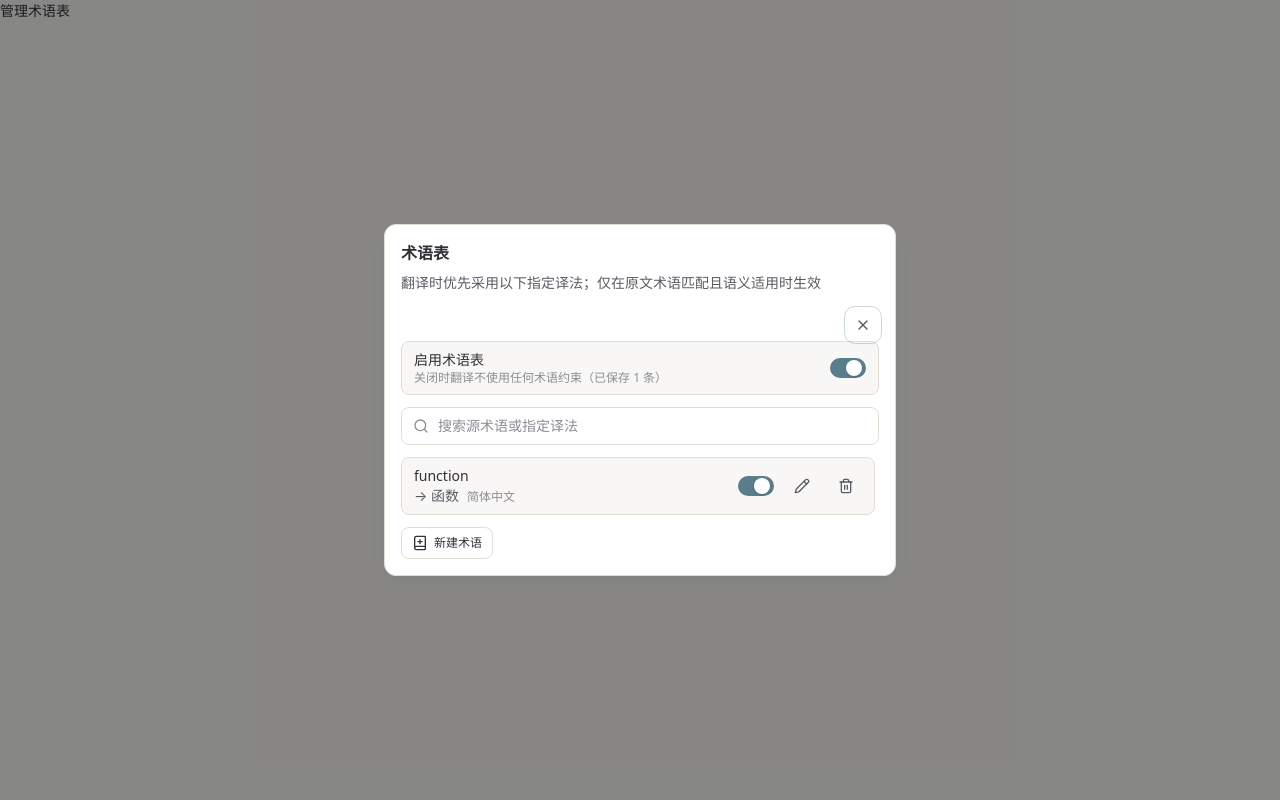
Scenario: TermbaseDialog › prefills the editor and updates an existing entry
Click the button named "编辑术语 function": (802, 486) [786,470,818,502]
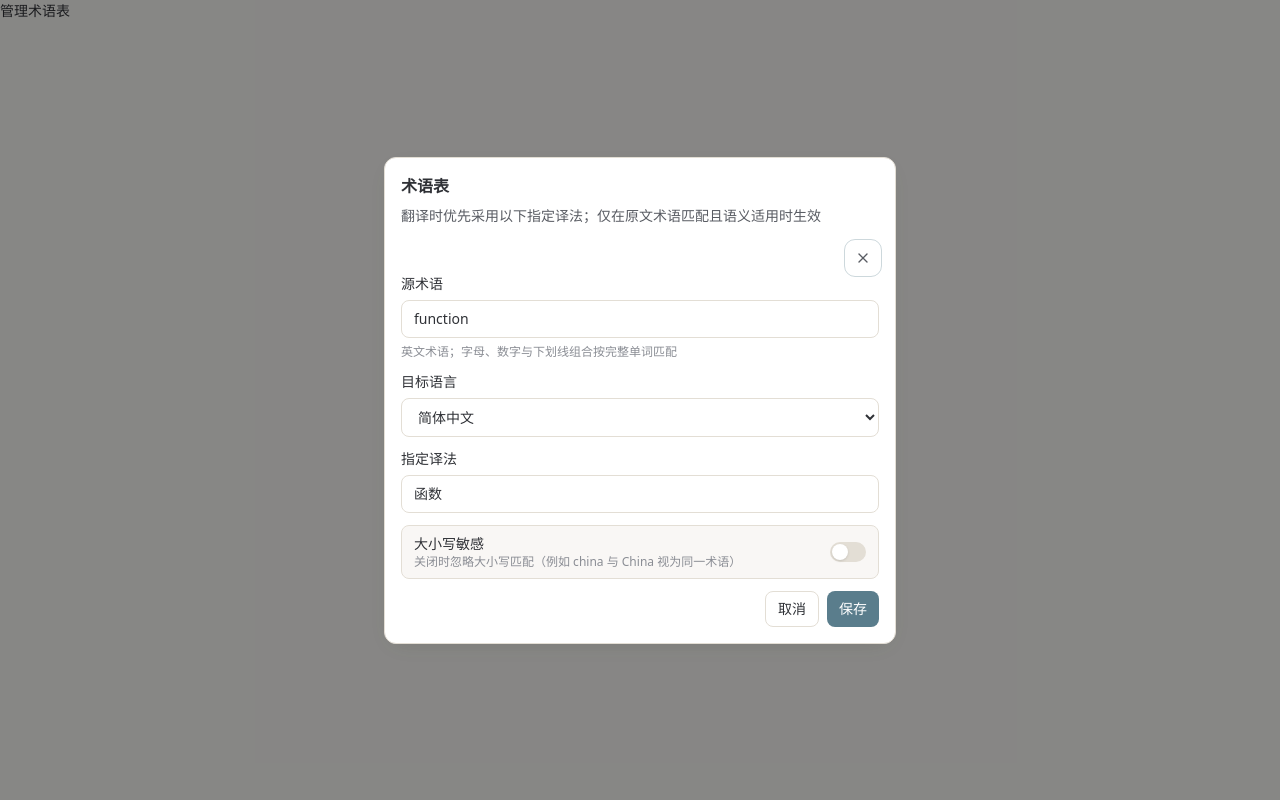
Expected: the field labelled "源术语" holds "function", [401,300,879,338]
Expected: the field labelled "指定译法" holds "函数"
Replace the text in the field labelled "指定译法" with "功能": (640, 494) [401,474,879,512]
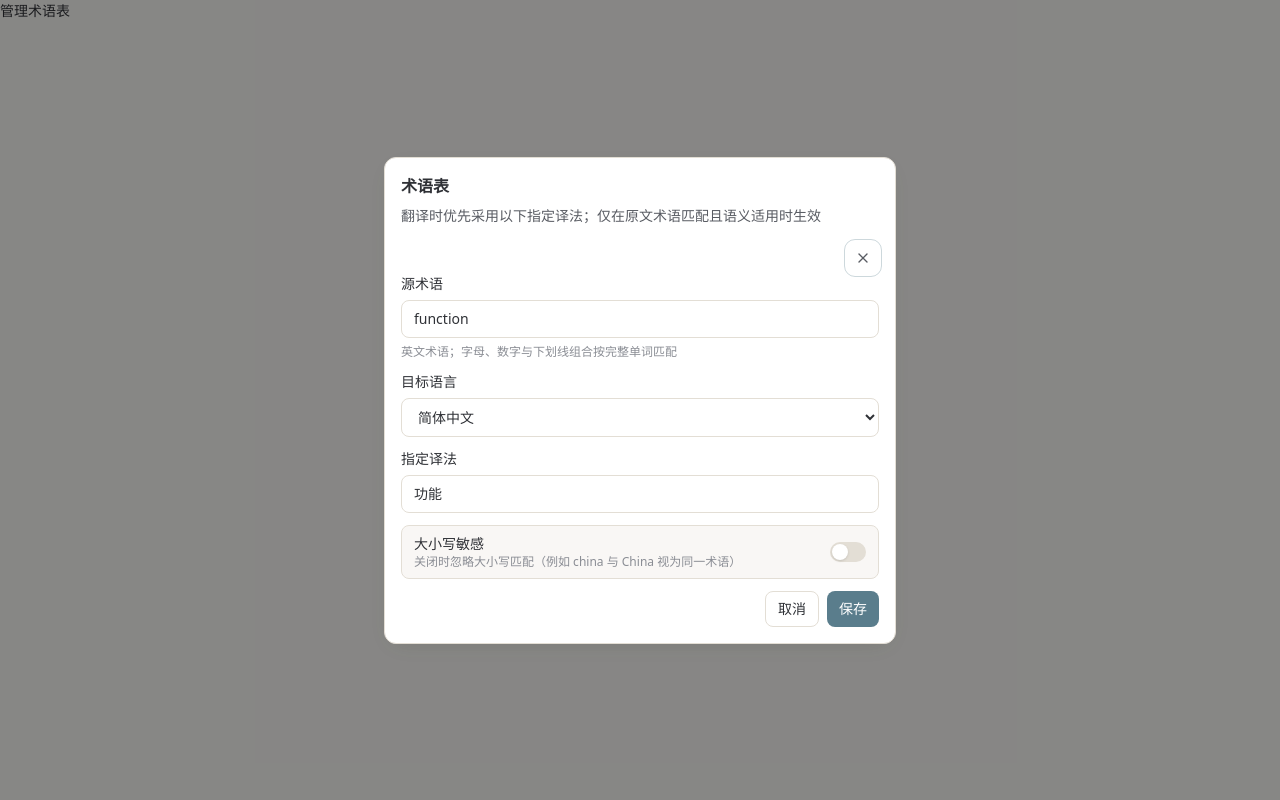
Click the button "保存": (853, 608) [827,590,879,626]
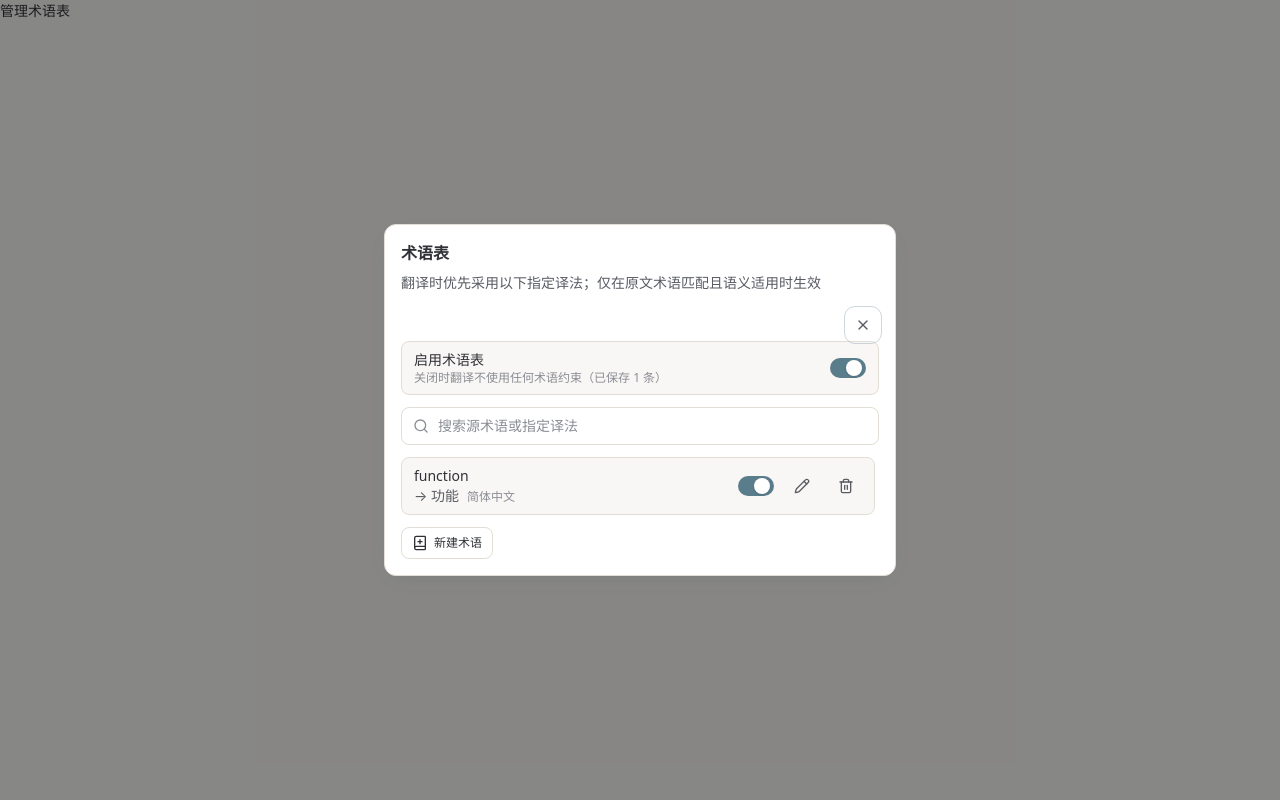
Expected: the text "→ 功能" is shown, [414,486,515,505]
